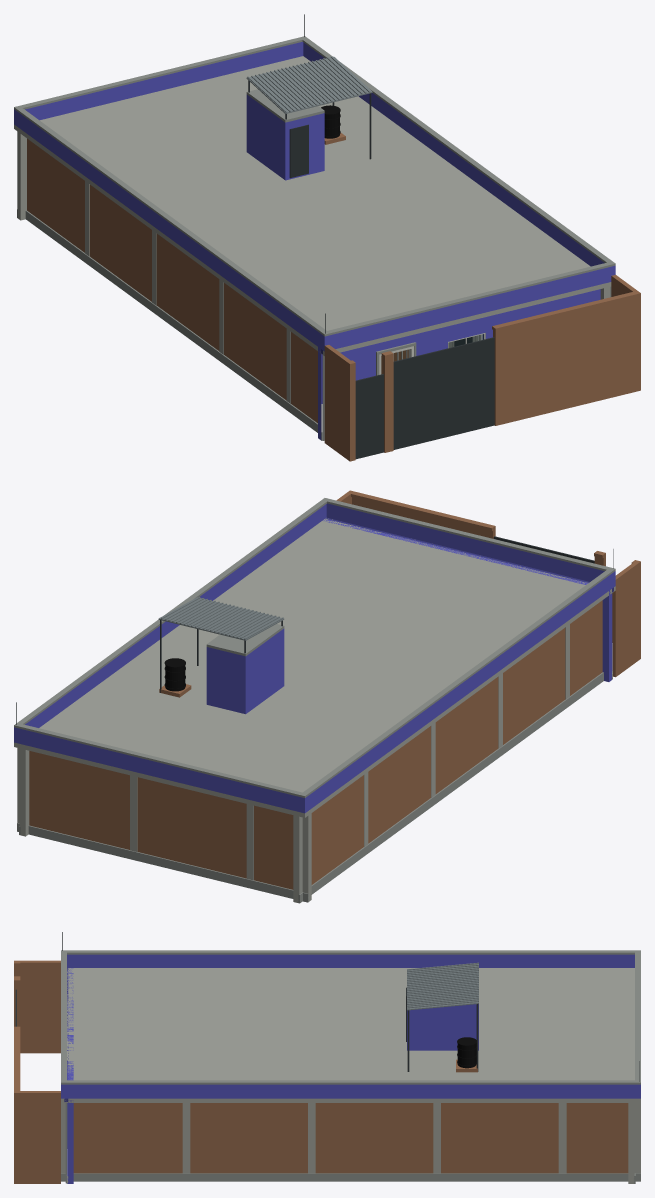
File: house_seed6861_residential.glb
3 renders of one model, top to bottom at view 1: azimuth 30°, elevation 25°; view 2: azimuth 150°, elevation 25°; view 3: azimuth 270°, elevation 25°, orthographic. The views are drawn at different scales.
Visible parts, largest first — view 1: roof_slab_11, wall_7, parapet_0, garage_door_5, parapet_cap_2, wall_0, wall_11, rooftop_room_0, plinth_2, canopy_sheet_8, corrugation_8, pedestrian_gate_5 (+3 smaller); view 2: roof_slab_11, wall_7, parapet_0, parapet_cap_2, wall_11, plinth_2, rooftop_room_0, corrugation_8, canopy_sheet_8, wall_0, cornice_7, rooftop_room_cap_2; view 3: roof_slab_11, wall_7, parapet_0, parapet_cap_2, plinth_2, wall_11, corrugation_8, rooftop_room_0, canopy_sheet_8, wall_0, cornice_7, water_tank_18 (+1 smaller).
Part boxes in pixels (x1,y1,x2,y2): roof_slab_11: (14, 56, 611, 355); wall_7: (27, 138, 640, 461); parapet_0: (14, 42, 615, 351); garage_door_5: (393, 337, 494, 449); parapet_cap_2: (14, 36, 615, 336); wall_0: (318, 289, 600, 440); wall_11: (17, 56, 609, 403); rooftop_room_0: (246, 94, 324, 180); plinth_2: (17, 209, 322, 440); canopy_sheet_8: (246, 56, 372, 113); corrugation_8: (247, 56, 370, 112); pedestrian_gate_5: (355, 374, 383, 459); roof_slab_11: (14, 518, 615, 817); wall_7: (29, 490, 640, 889); parapet_0: (14, 503, 615, 813); parapet_cap_2: (14, 498, 615, 797); wall_11: (17, 518, 569, 902); plinth_2: (17, 671, 612, 903); rooftop_room_0: (206, 628, 284, 714); corrugation_8: (161, 597, 283, 639); canopy_sheet_8: (158, 597, 284, 640); wall_0: (323, 519, 612, 681); cornice_7: (347, 491, 640, 563); rooftop_room_cap_2: (206, 624, 284, 656); roof_slab_11: (61, 968, 640, 1102); wall_7: (14, 960, 628, 1183); parapet_0: (61, 954, 640, 1098); parapet_cap_2: (61, 950, 640, 1084); plinth_2: (61, 1173, 640, 1183); wall_11: (61, 969, 640, 1183); corrugation_8: (407, 962, 478, 1008); rooftop_room_0: (407, 1004, 478, 1050); canopy_sheet_8: (407, 964, 478, 1010); wall_0: (67, 968, 73, 1183); cornice_7: (14, 960, 20, 1095); water_tank_18: (457, 1043, 476, 1068).
Size of the model in its own units: 10 by 5.51 by 20.
